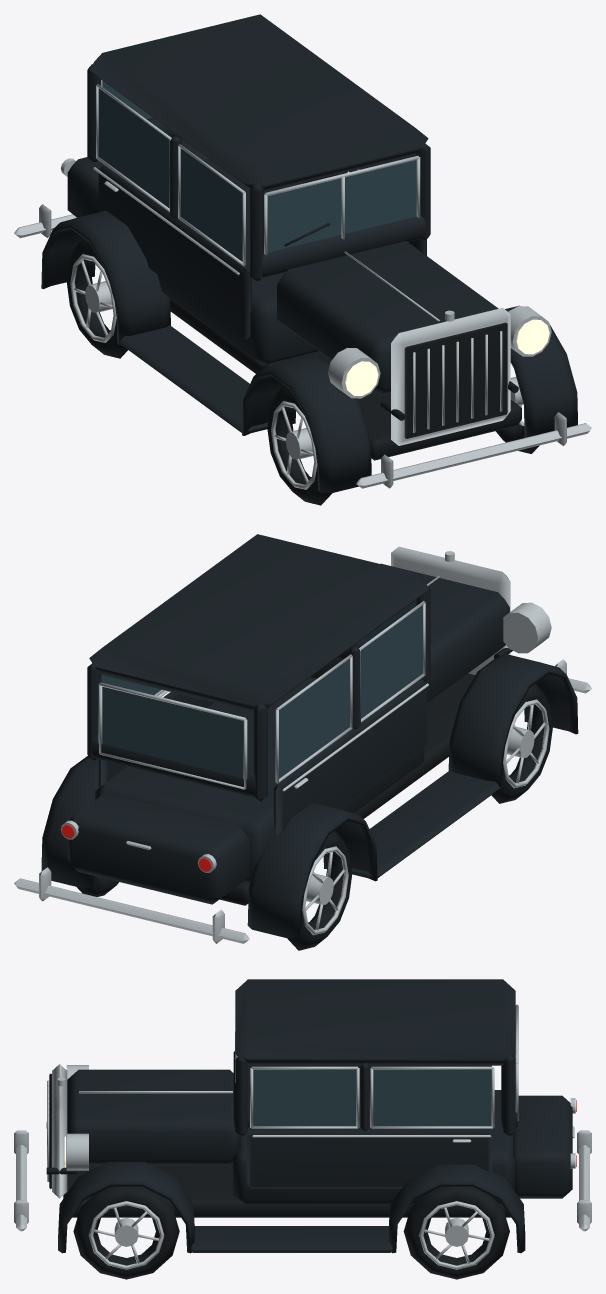
File: gangster-distant.glb
3 renders of one model, top to bottom at view 1: azimuth 30°, elevation 25°; view 2: azimuth 150°, elevation 25°; view 3: azimuth 270°, elevation 25°, orthographic. The views are drawn at different scales.
Visible parts, largest first — view 1: body, door_left, fender_left, bonnet, grille, running_board_left, fender_right, wheel_fl, wheel_rl, lights_front, bumper_front, boot (+2 smaller); view 2: body, door_left, fender_left, boot, bonnet, running_board_left, fender_right, wheel_rl, wheel_fl, bumper_rear, grille, lights_front (+2 smaller); view 3: body, door_right, bonnet, fender_right, wheel_fr, wheel_rr, boot, running_board_right, grille, bumper_front, bumper_rear, lights_front (+1 smaller).
Part boxes in pixels (x1,y1,x2,y2): body: (87,14,521,460); door_left: (93,84,251,339); fender_left: (41,210,371,493); bonnet: (277,241,498,395); grille: (391,308,510,445); running_board_left: (119,325,267,432); fender_right: (505,305,577,437); wheel_fl: (267,385,332,505); wheel_rl: (66,238,127,358); lights_front: (328,306,551,398); bumper_front: (356,412,591,488); boot: (67,138,208,217); body: (87,534,475,905); door_left: (273,601,428,835); fender_left: (247,654,578,938); boot: (67,793,249,904); bonnet: (311,563,509,702); running_board_left: (351,770,499,877); fender_right: (41,756,98,888); wheel_rl: (287,830,352,950); wheel_fl: (491,684,552,803); bumper_rear: (14,867,249,943); grille: (391,546,510,674); lights_front: (503,602,551,653); body: (63,979,518,1217); door_right: (246,1063,494,1188); bonnet: (67,1069,240,1165); fender_right: (58,1161,525,1253); wheel_fr: (73,1186,179,1279); wheel_rr: (403,1186,509,1279); boot: (513,1095,574,1198); running_board_right: (191,1226,392,1252); grille: (47,1064,67,1198); bumper_front: (14,1130,28,1231); bumper_rear: (577,1130,591,1231); lights_front: (64,1065,88,1170).
Size of the model in its own units: 1.98 by 2 by 4.62.
